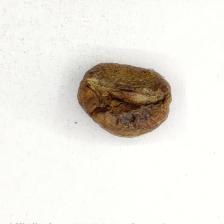NG: (83, 62, 170, 134)
